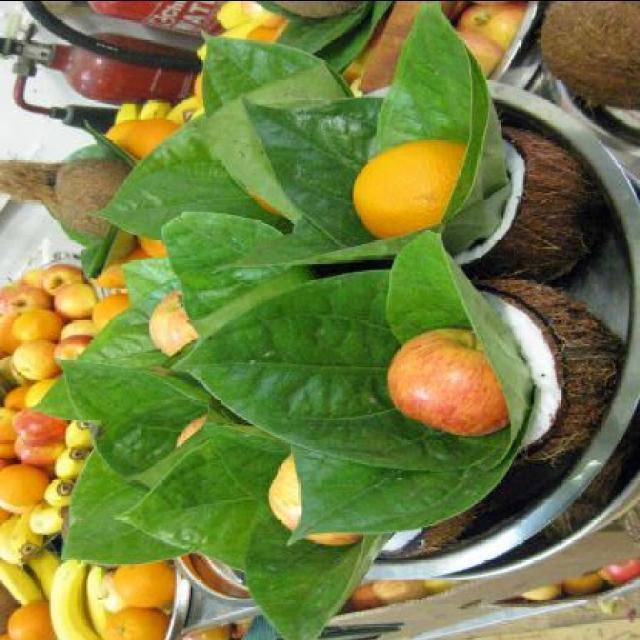Orange: (353, 138, 469, 240), (111, 556, 178, 608), (127, 116, 184, 162), (106, 605, 171, 640), (0, 462, 51, 504), (9, 598, 58, 640), (12, 308, 62, 339)
